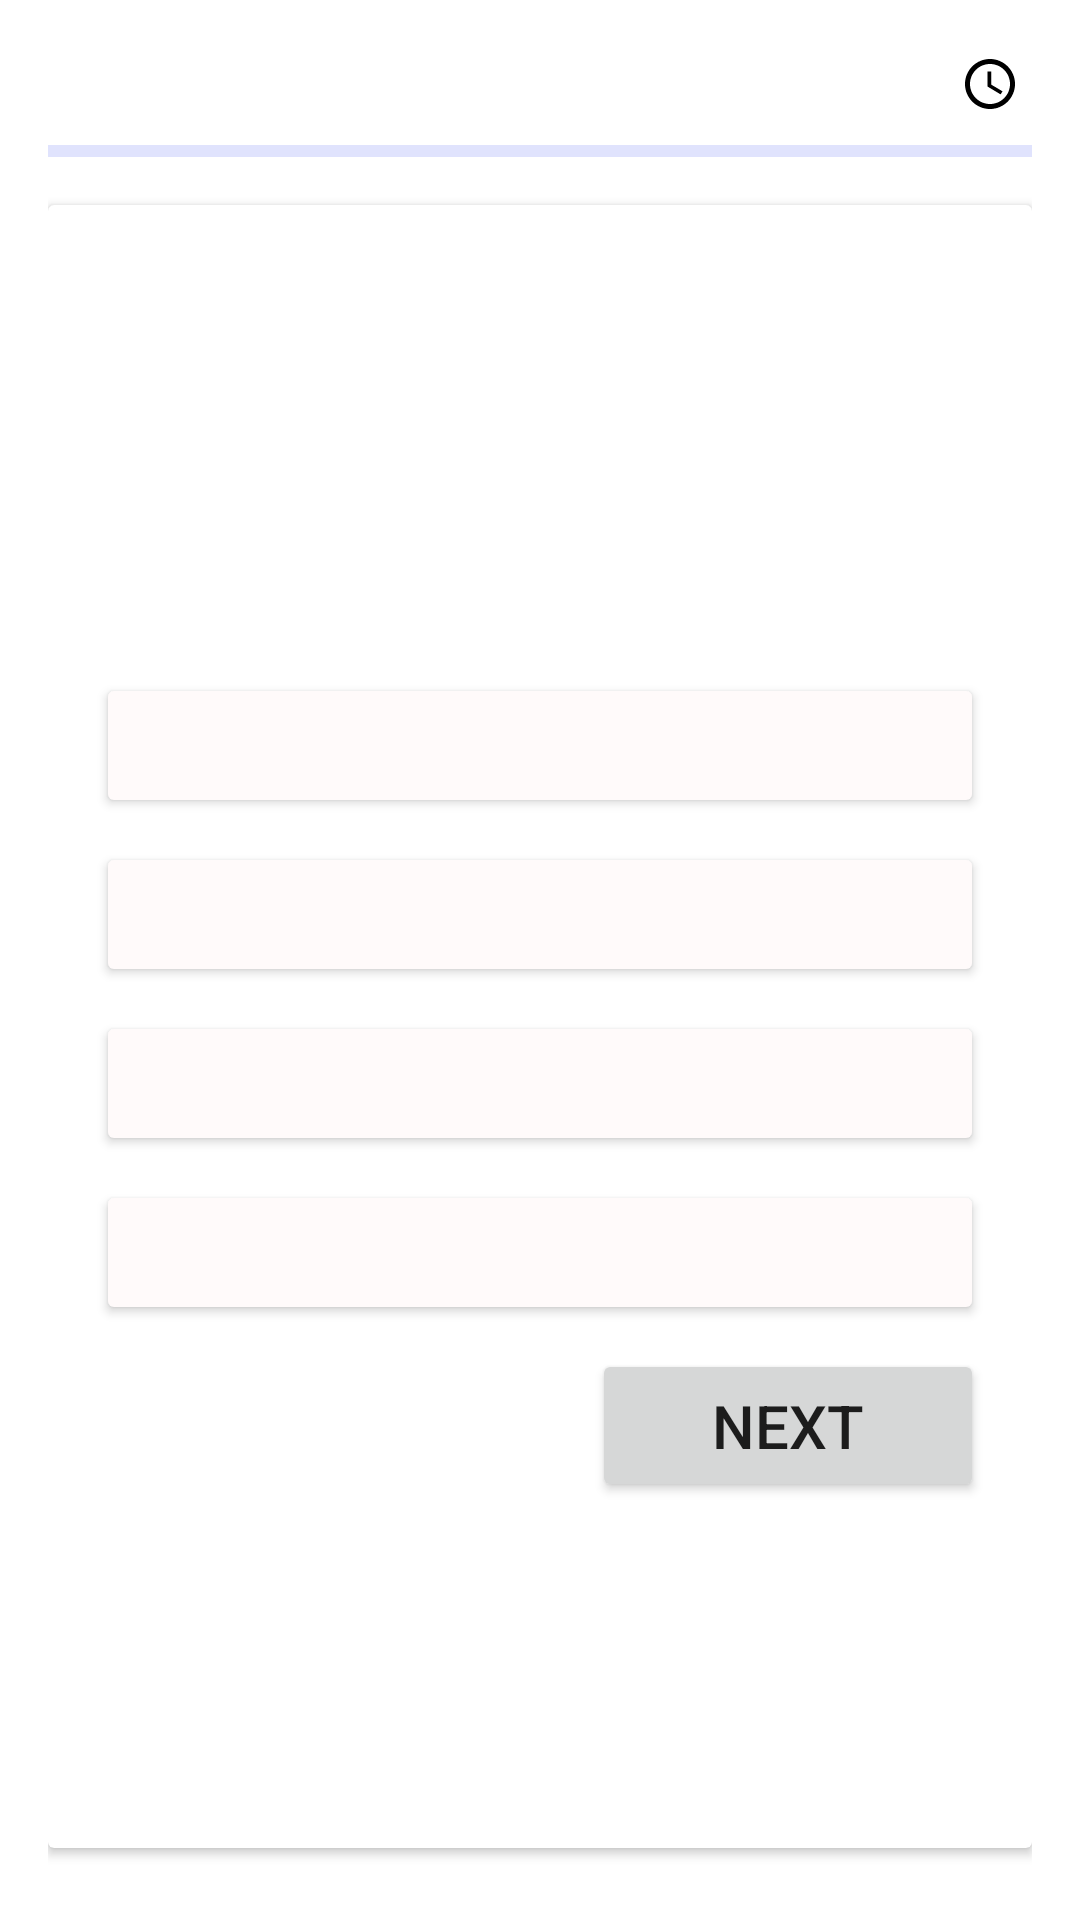

Screen size 1080*1920. Icon name, then its box in pixels as (x1, y1, x2, y2):
timer: (965, 59, 1015, 109)
